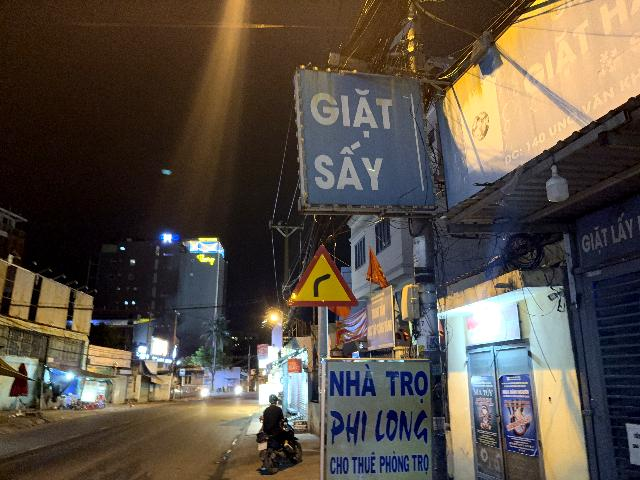cho-ngoat-nguy-hiem-ben-phai: (286, 245, 359, 308)
